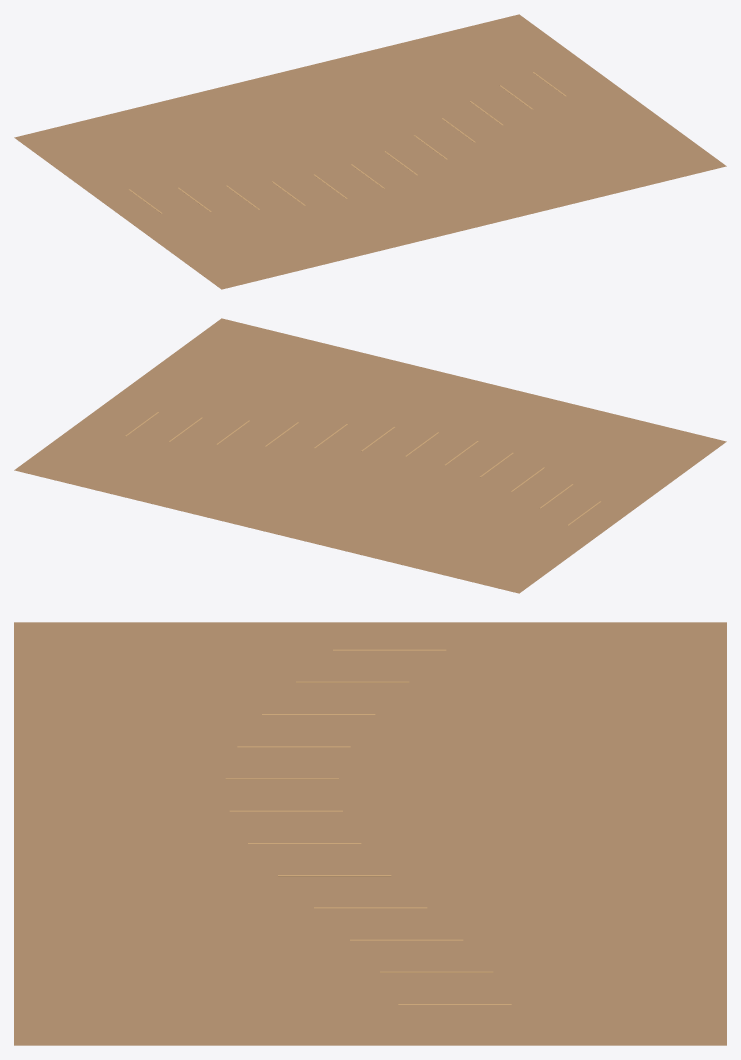
The model's file is 268_L119_L19_LayerReference.glb.
3 renders of one model, top to bottom at view 1: azimuth 30°, elevation 25°; view 2: azimuth 150°, elevation 25°; view 3: azimuth 270°, elevation 25°, orthographic. The views are drawn at different scales.
Parts seen in each view (by area): view 1: 0000__PSMAT__copper_dark; view 2: 0000__PSMAT__copper_dark; view 3: 0000__PSMAT__copper_dark.
Boxes of the visible parts, x1,y1,x2,y2 form: 0000__PSMAT__copper_dark: (14, 14, 726, 289); 0000__PSMAT__copper_dark: (14, 318, 726, 593); 0000__PSMAT__copper_dark: (14, 622, 726, 1045).
Bounding box in the file's own units: 0.486 × 0.000106 × 0.346.
